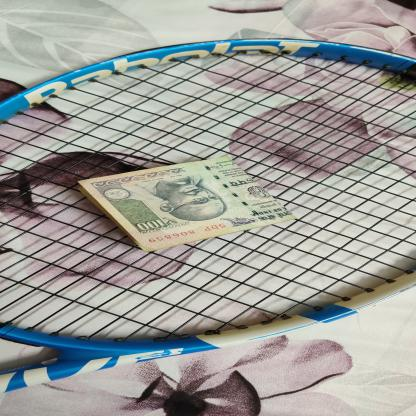Old100Front: (77, 156, 297, 252)
